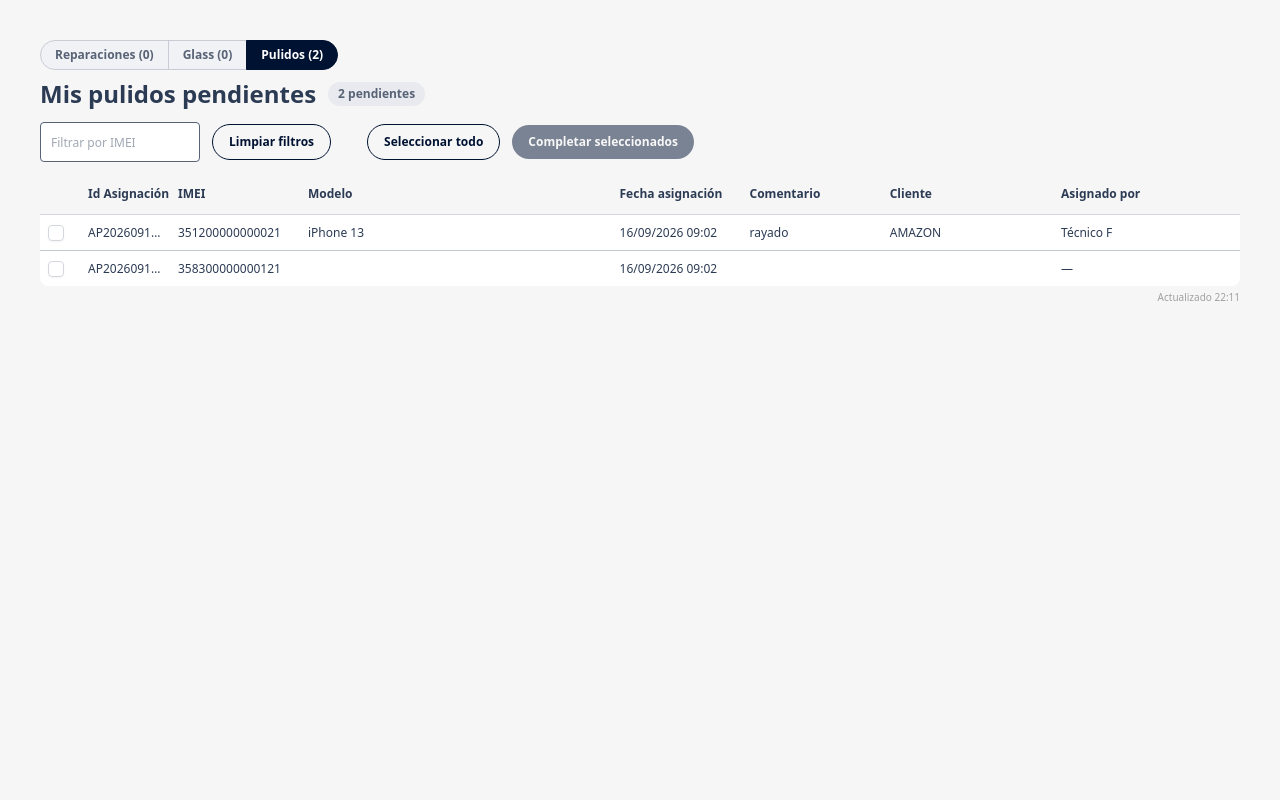
Test: PulidosPendientesPage (ficha docs/paridad/pendientes.md, pestaña Pulidos) › antes de completar pide confirmación con cuántos y cuáles; Cancelar no completa y conserva la selección
Expected: the text "AP20260916_1" is shown, top-left (80, 214), bottom-right (170, 250)
Click the button "Seleccionar todo" at (434, 142), box top-left (367, 124), bottom-right (500, 160)
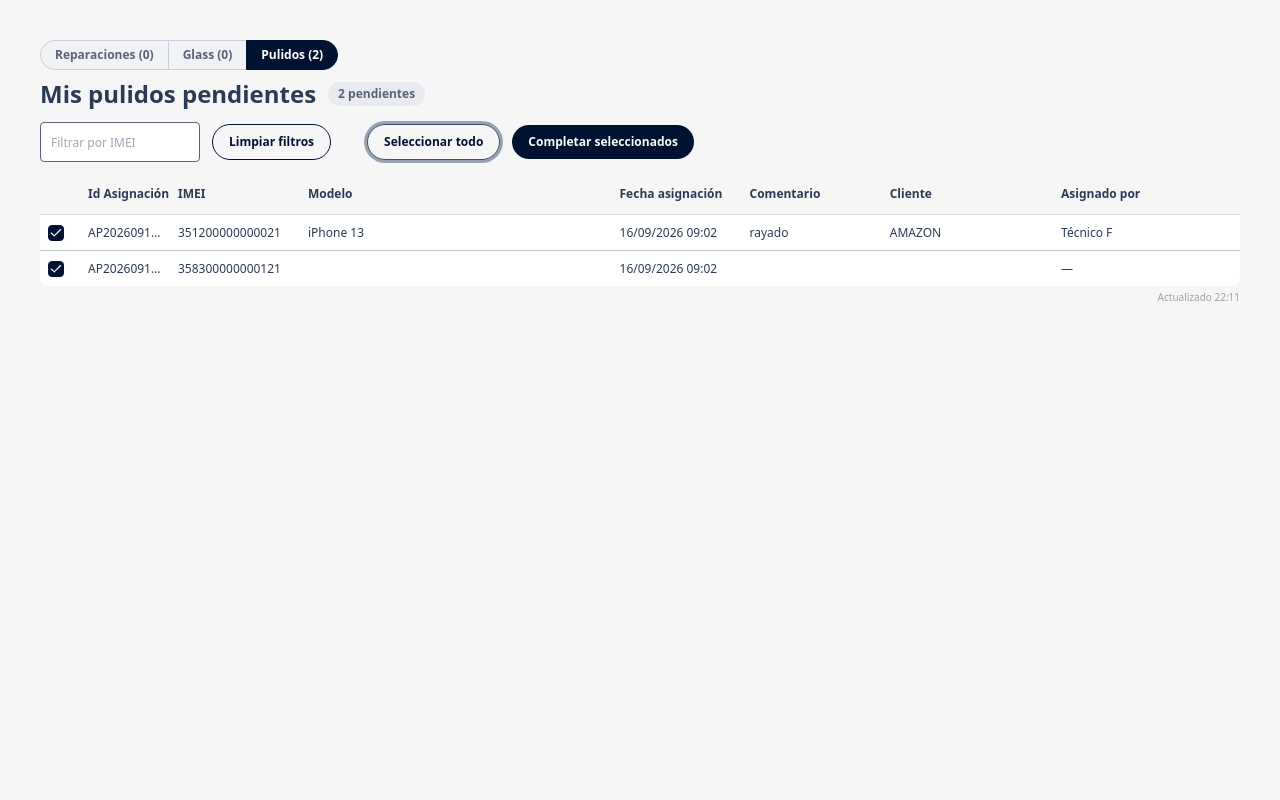
Click the button "Completar seleccionados" at (603, 142), box top-left (512, 125), bottom-right (694, 159)
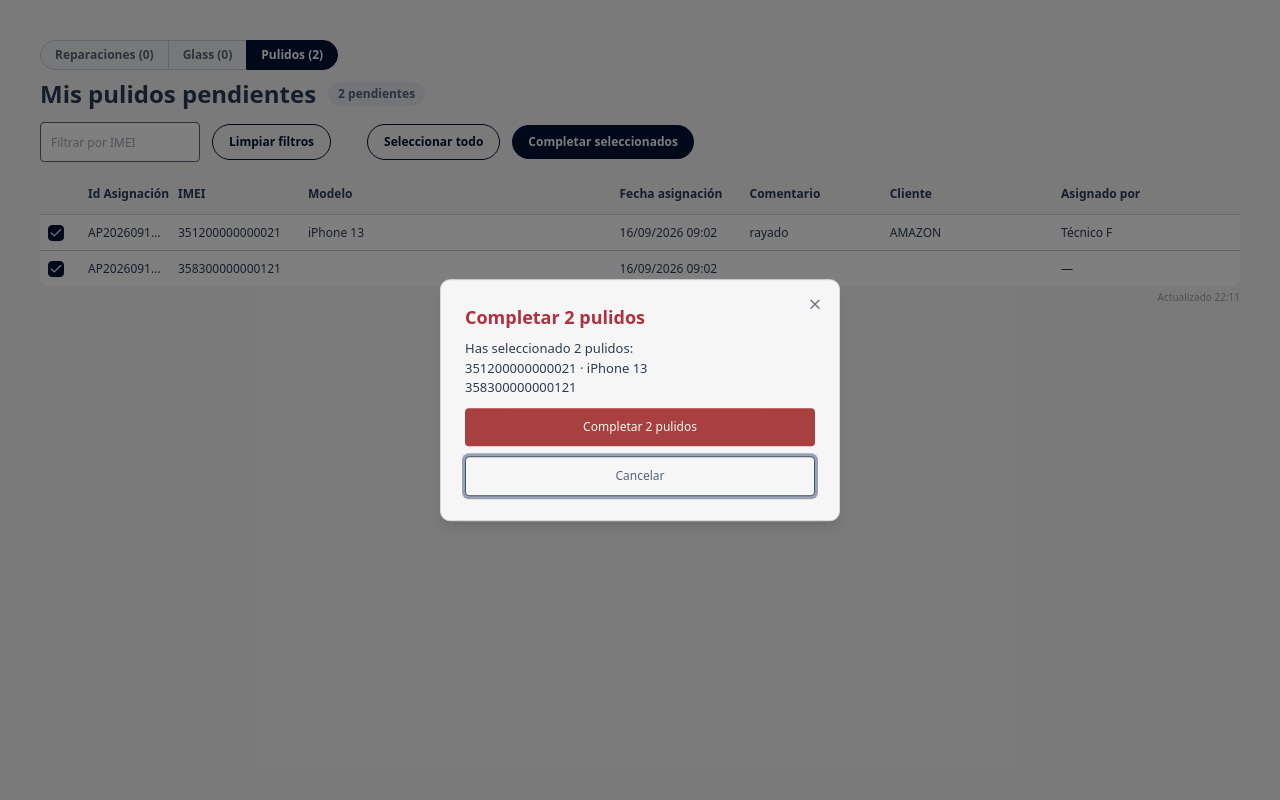
Expected: the dialog "Completar 2 pulidos" shows "Has seleccionado 2 pulidos:", top-left (465, 339), bottom-right (648, 396)
Click the button "Cancelar" at (640, 476), box top-left (465, 456), bottom-right (815, 496)
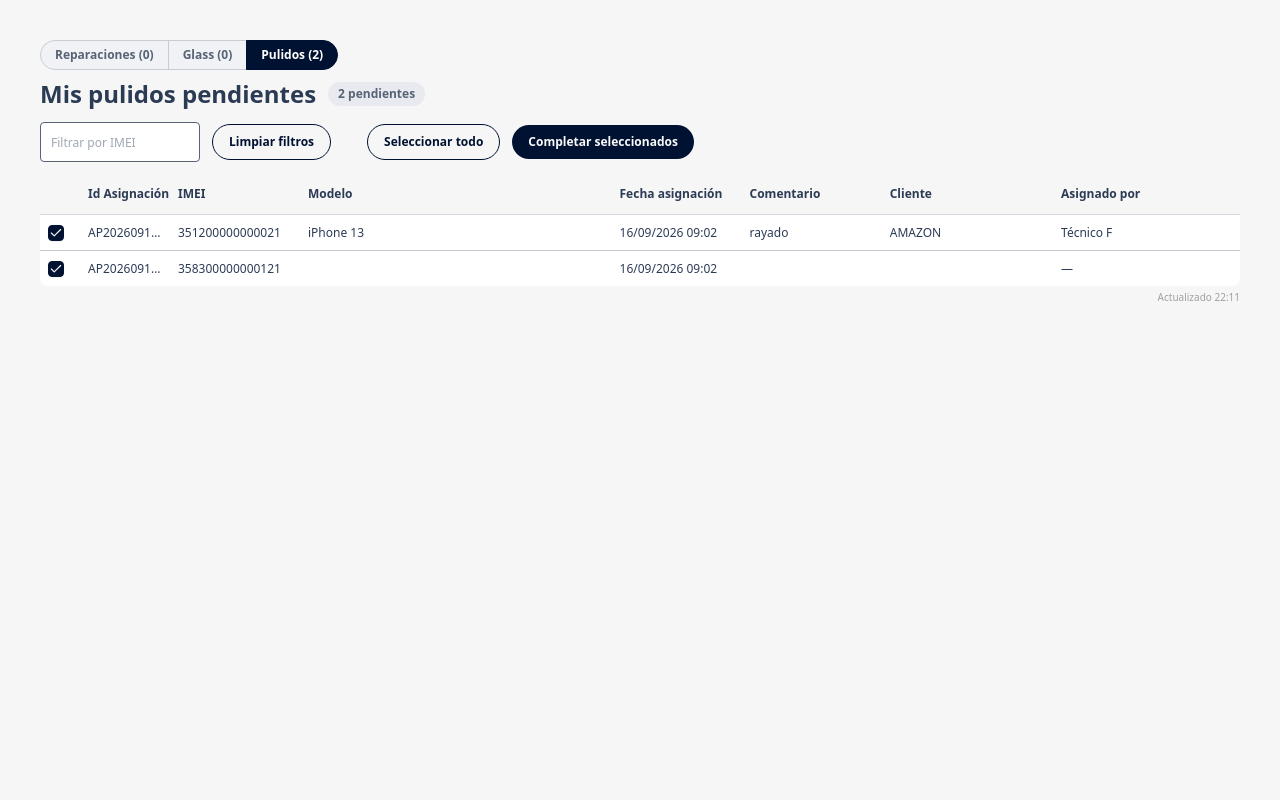
Expected: the dialog is gone
